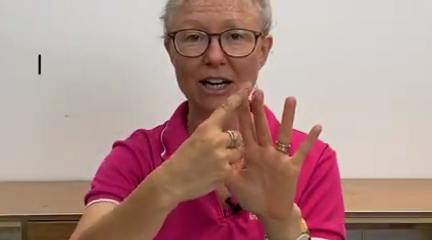I: (155, 74, 344, 229)
